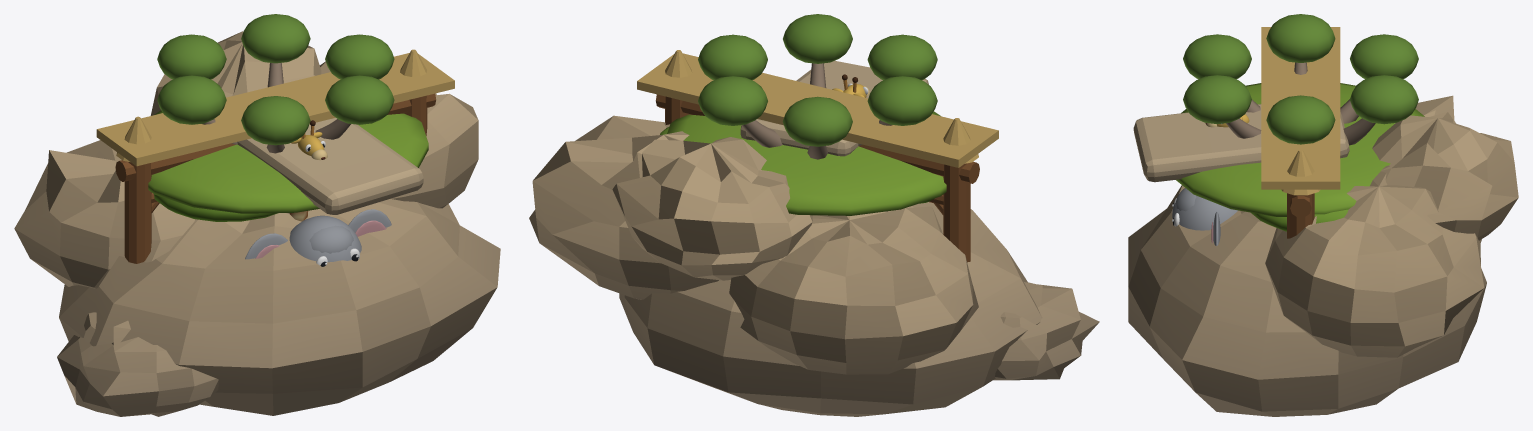
File: safari.glb
3 renders of one model, left to right at view 1: azimuth 30°, elevation 25°; view 2: azimuth 150°, elevation 25°; view 3: azimuth 270°, elevation 25°, orthographic.
Parts seen in each view (by area): view 1: RocaLeones, Baobab, ArcoSafari, Acacia, Elefante_Cabeza, Jirafa_Cabeza, Elefante_OrejaI, Elefante_OrejaD; view 2: RocaLeones, Baobab, ArcoSafari, Acacia; view 3: RocaLeones, Baobab, ArcoSafari, Acacia, Elefante_Cabeza.
Boxes of the visible parts, left/top/right/bottom form: RocaLeones: left=14, top=31, right=500, bottom=416; Baobab: left=157, top=14, right=394, bottom=213; ArcoSafari: left=96, top=49, right=454, bottom=263; Acacia: left=148, top=110, right=428, bottom=221; Elefante_Cabeza: left=289, top=215, right=361, bottom=266; Jirafa_Cabeza: left=289, top=120, right=327, bottom=221; Elefante_OrejaI: left=348, top=209, right=391, bottom=236; Elefante_OrejaD: left=245, top=233, right=287, bottom=259; RocaLeones: left=529, top=60, right=1099, bottom=416; Baobab: left=698, top=14, right=937, bottom=159; ArcoSafari: left=637, top=50, right=998, bottom=262; Acacia: left=660, top=111, right=946, bottom=215; RocaLeones: left=1128, top=95, right=1518, bottom=416; Baobab: left=1183, top=14, right=1418, bottom=145; ArcoSafari: left=1261, top=27, right=1340, bottom=238; Acacia: left=1176, top=83, right=1424, bottom=231; Elefante_Cabeza: left=1172, top=188, right=1237, bottom=230.
Size of the model in its own units: 10.69 by 7.18 by 7.91.
